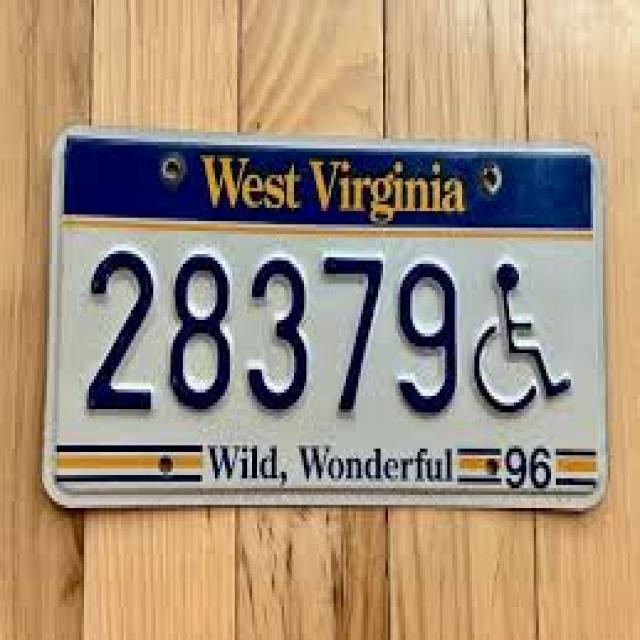car-handicap-placard: (474, 262, 573, 421)
